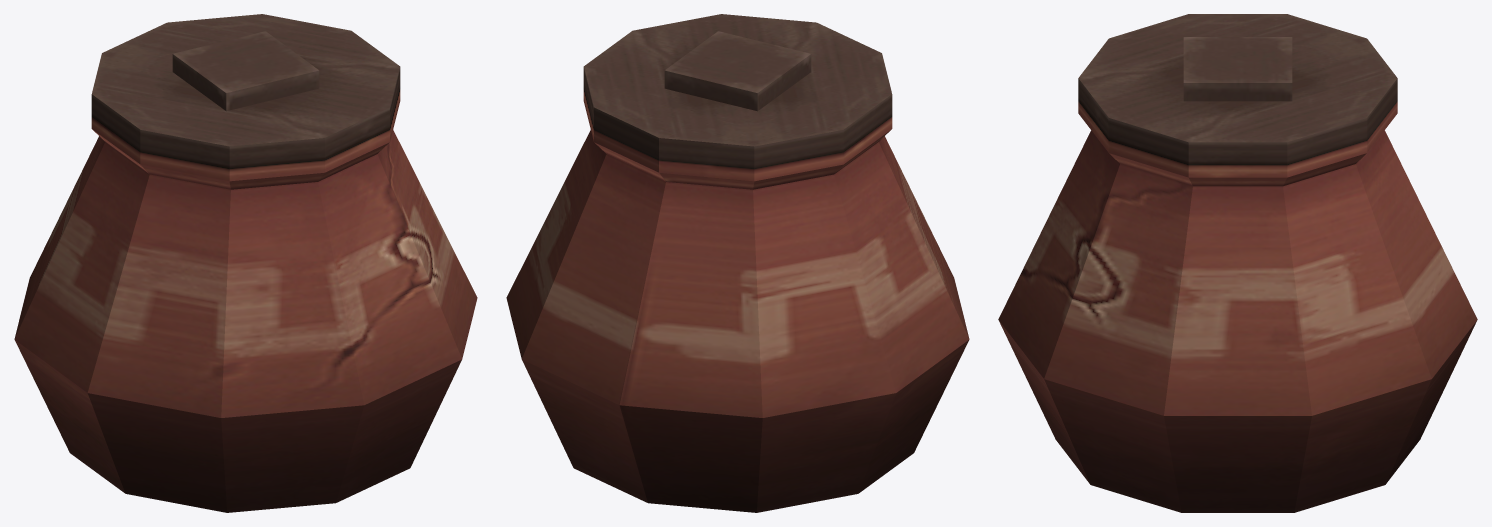
File: jar.obj
3 renders of one model, left to right at view 1: azimuth 30°, elevation 25°; view 2: azimuth 150°, elevation 25°; view 3: azimuth 270°, elevation 25°, orthographic.
Parts seen in each view (by area): view 1: jar; view 2: jar; view 3: jar.
Boxes of the visible parts, x1=… form: jar: x1=14, y1=14, x2=477, y2=512; jar: x1=506, y1=14, x2=969, y2=512; jar: x1=998, y1=14, x2=1477, y2=512.
Size of the model in its own units: 2.5 by 2.3 by 2.63.
1 material, 1 textured.
